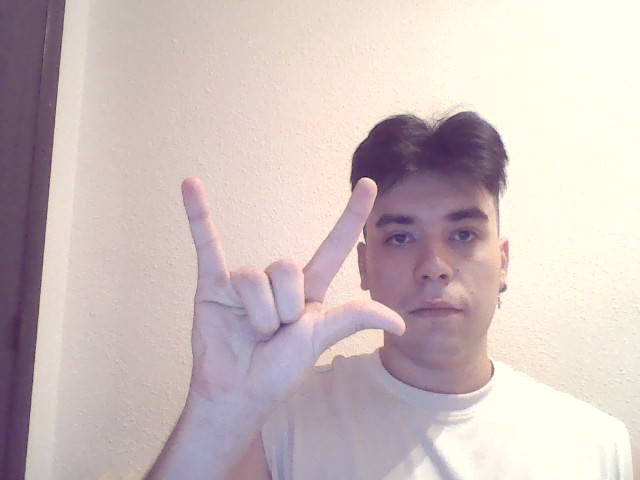Te quiero: (173, 157, 431, 430)
